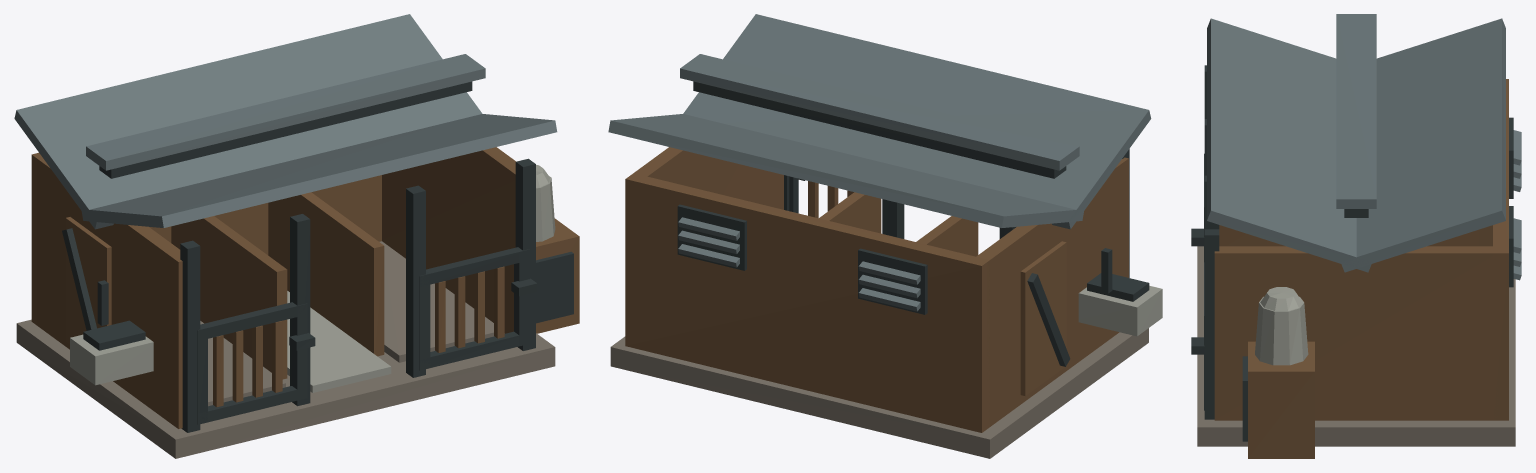
The model's file is Milking-Shed.glb.
3 views of the same model, side by side, from view 1: azimuth 30°, elevation 25°; view 2: azimuth 150°, elevation 25°; view 3: azimuth 270°, elevation 25° (orthographic).
Visible parts, largest first — view 1: milking-shed-static-milking-shed-weathered-timber, milking-shed-static-milking-shed-galvanized-roof, milking-shed-static-milking-shed-dark-iron, milking-shed-static-milking-shed-stone-curb, milking-shed-static-milking-shed-clean-service-fixtures; view 2: milking-shed-static-milking-shed-weathered-timber, milking-shed-static-milking-shed-galvanized-roof, milking-shed-static-milking-shed-stone-curb, milking-shed-static-milking-shed-dark-iron, milking-shed-static-milking-shed-clean-service-fixtures; view 3: milking-shed-static-milking-shed-galvanized-roof, milking-shed-static-milking-shed-weathered-timber, milking-shed-static-milking-shed-stone-curb, milking-shed-static-milking-shed-dark-iron, milking-shed-static-milking-shed-clean-service-fixtures.
Part boxes in pixels (x1,y1,x2,y2): milking-shed-static-milking-shed-weathered-timber: (31,147,579,428); milking-shed-static-milking-shed-galvanized-roof: (14,14,557,229); milking-shed-static-milking-shed-dark-iron: (62,81,573,432); milking-shed-static-milking-shed-stone-curb: (16,241,555,458); milking-shed-static-milking-shed-clean-service-fixtures: (70,165,555,392); milking-shed-static-milking-shed-weathered-timber: (625,147,1128,432); milking-shed-static-milking-shed-galvanized-roof: (608,14,1151,311); milking-shed-static-milking-shed-stone-curb: (610,328,1148,458); milking-shed-static-milking-shed-dark-iron: (677,81,1149,366); milking-shed-static-milking-shed-clean-service-fixtures: (1078,285,1162,336); milking-shed-static-milking-shed-galvanized-roof: (1207,14,1521,280); milking-shed-static-milking-shed-weathered-timber: (1214,79,1508,458); milking-shed-static-milking-shed-stone-curb: (1197,246,1515,446); milking-shed-static-milking-shed-dark-iron: (1191,65,1513,441); milking-shed-static-milking-shed-clean-service-fixtures: (1255,287,1308,365).
Bounding box in the file's own units: 4.12 × 2.04 × 2.47.
